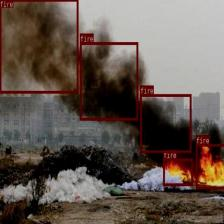fire: (0, 0, 78, 93), (80, 41, 138, 120), (140, 94, 191, 153), (195, 143, 224, 188), (163, 158, 193, 186)
